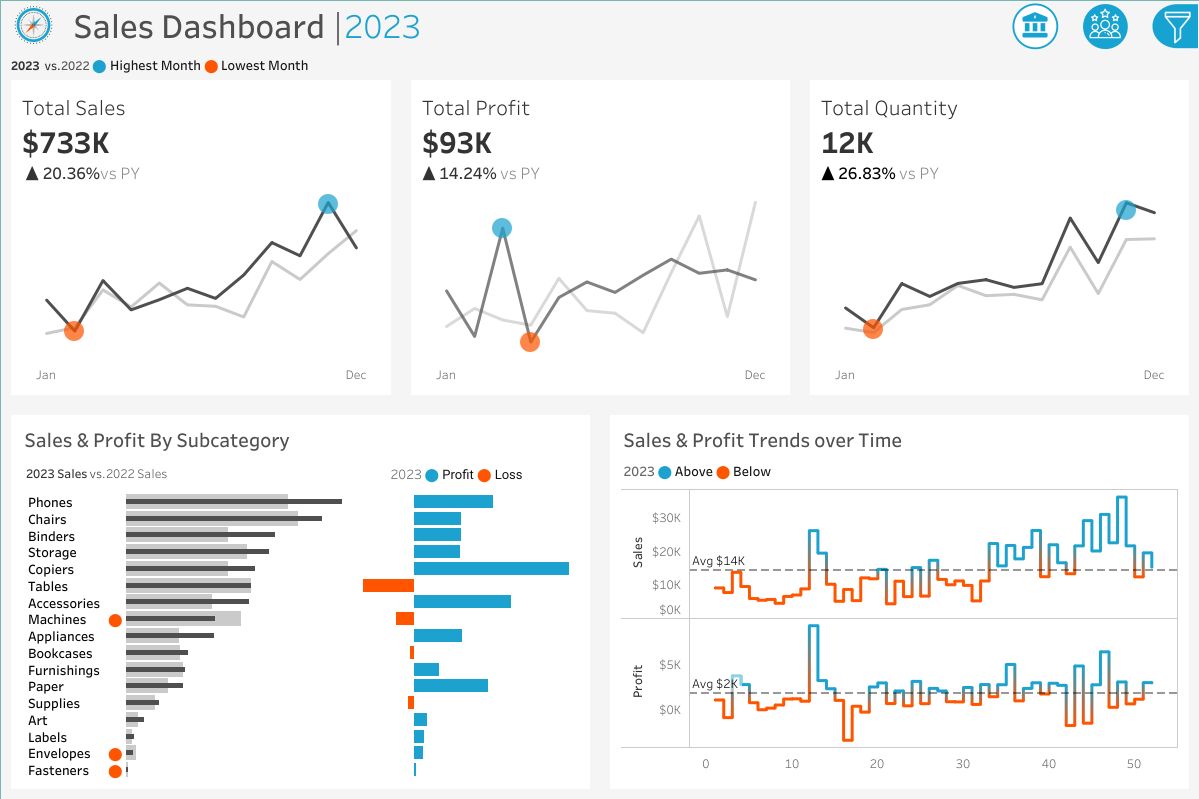

Layout of this report page (visuals, bound fields, positions):
{"tool":"tableau","page":{"name":"Sales Dashboard","canvas":[1200,800],"ordinal":1},"visuals":[{"type":"image","param":"D:/MS TIME/Mywork/Project/Tableau Dashboard/projects/sales-dashboard-project/ima","box":[1,1,66,48]},{"type":"text","box":[67,1,1132,48]},{"type":"blank","box":[1008,10,181,63]},{"type":"worksheet","title":"Legend KPI","mark":"Automatic","box":[1,49,1198,31]},{"type":"text","box":[1008,73,181,35]},{"type":"blank","box":[893,79,272,41]},{"type":"worksheet","title":"KPI Sales","mark":"Automatic","rows":["Calculation_2562829721738117123"],"cols":["Order Date"],"box":[1,80,400,325]},{"type":"worksheet","title":"KPI Profit","mark":"Automatic","rows":["Calculation_2562829721761980431"],"cols":["Order Date"],"box":[401,80,399,325]},{"type":"worksheet","title":"KPI Quantity","mark":"Automatic","rows":["Calculation_2562829721791029269"],"cols":["Order Date"],"box":[800,80,399,325]},{"type":"parameter","param":"[Parameters].[Parameter 1]","box":[1008,108,181,52]},{"type":"text","box":[1008,160,181,30]},{"type":"filter","title":"KPI Sales","param":"[federated.1p0spqz0drkzyx11dr3jd0gyghd6].[none:Category:nk]","box":[1008,190,181,52]},{"type":"filter","title":"KPI Sales","param":"[federated.1p0spqz0drkzyx11dr3jd0gyghd6].[none:Sub-Category:nk]","box":[1008,242,181,52]},{"type":"blank","box":[1008,294,181,50]},{"type":"text","box":[1008,344,181,30]},{"type":"filter","title":"KPI Sales","param":"[federated.1p0spqz0drkzyx11dr3jd0gyghd6].[none:Region:nk]","box":[1008,374,181,52]},{"type":"text","box":[18,422,565,34]},{"type":"text","box":[617,422,565,34]},{"type":"filter","title":"KPI Sales","param":"[federated.1p0spqz0drkzyx11dr3jd0gyghd6].[none:State:nk]","box":[1008,426,181,52]},{"type":"worksheet","title":"Legend subcategory","mark":"Automatic","box":[18,456,366,32]},{"type":"text","box":[384,456,199,32]},{"type":"text","box":[617,456,565,26]},{"type":"filter","title":"KPI Sales","param":"[federated.1p0spqz0drkzyx11dr3jd0gyghd6].[none:City:nk]","box":[1008,478,181,52]},{"type":"worksheet","title":"Weekly Trends","mark":"Automatic","rows":["Calculation_2744099606470987776","Calculation_2562829721755455496"],"cols":["Order Date"],"box":[617,484.8,565,297.2]},{"type":"worksheet","title":"Subcategory Comparison","mark":"Bar","rows":["Sub-Category","Calculation_2572118396389552128"],"cols":["CY Sales (copy)_2744099606488997890","Calculation_2744099606470987776","Calculation_2562829721755455496"],"box":[18,488,565,293.9]}]}

Visuals, with their boxes in screenshot pixels (x1, y1, x2, y2), scaled from the page's 1200x800 canvas onto the 1199x799 screenshot:
image: detection(1, 1, 67, 49)
text: detection(67, 1, 1198, 49)
blank: detection(1007, 10, 1188, 73)
"Legend KPI" worksheet: detection(1, 49, 1198, 80)
text: detection(1007, 73, 1188, 108)
blank: detection(892, 79, 1164, 120)
"KPI Sales" worksheet: detection(1, 80, 401, 404)
"KPI Profit" worksheet: detection(401, 80, 799, 404)
"KPI Quantity" worksheet: detection(799, 80, 1198, 404)
parameter: detection(1007, 108, 1188, 160)
text: detection(1007, 160, 1188, 190)
"KPI Sales" filter: detection(1007, 190, 1188, 242)
"KPI Sales" filter: detection(1007, 242, 1188, 294)
blank: detection(1007, 294, 1188, 344)
text: detection(1007, 344, 1188, 374)
"KPI Sales" filter: detection(1007, 374, 1188, 425)
text: detection(18, 421, 583, 455)
text: detection(616, 421, 1181, 455)
"KPI Sales" filter: detection(1007, 425, 1188, 477)
"Legend subcategory" worksheet: detection(18, 455, 384, 487)
text: detection(384, 455, 583, 487)
text: detection(616, 455, 1181, 481)
"KPI Sales" filter: detection(1007, 477, 1188, 529)
"Weekly Trends" worksheet: detection(616, 484, 1181, 781)
"Subcategory Comparison" worksheet (Bar marks): detection(18, 487, 583, 781)
